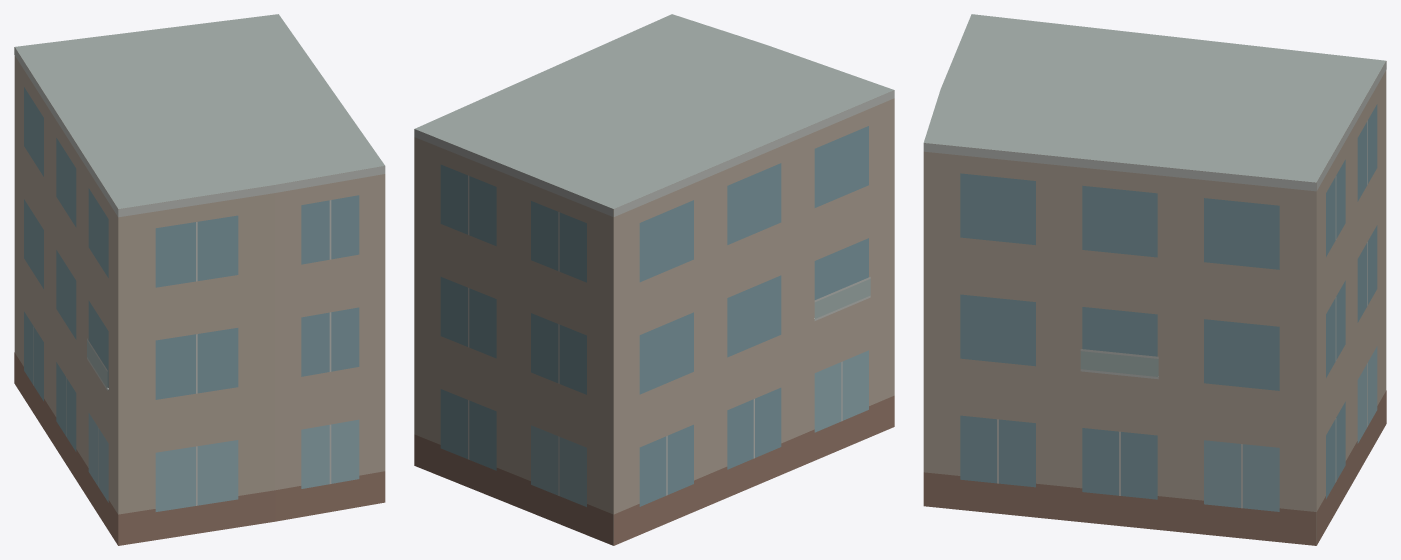
The model's file is survey-upis-32806840.glb.
3 views of the same model, side by side, from view 1: azimuth 30°, elevation 25°; view 2: azimuth 150°, elevation 25°; view 3: azimuth 270°, elevation 25° (orthographic). The views are drawn at different scales.
Visible parts, largest first — view 1: survey-upis-32806840.tmp; view 2: survey-upis-32806840.tmp; view 3: survey-upis-32806840.tmp.
Part boxes in pixels (x1,y1,x2,y2): survey-upis-32806840.tmp: [14, 14, 385, 545]; survey-upis-32806840.tmp: [414, 14, 894, 545]; survey-upis-32806840.tmp: [923, 14, 1386, 545].
Bounding box in the file's own units: 10.06 × 10.1 × 11.67.
